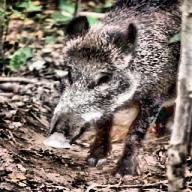boar: (42, 0, 191, 178)
